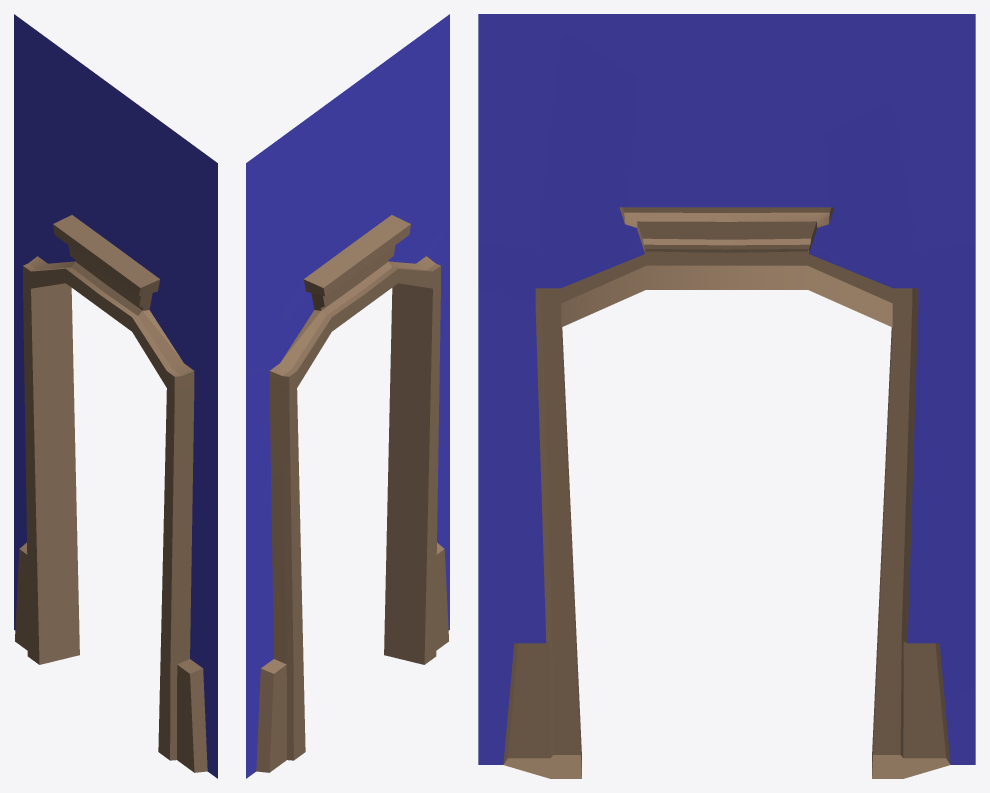
File: SM_SalleSilence_EncadrementPorte.fbx
3 views of the same model, side by side, from view 1: azimuth 30°, elevation 25°; view 2: azimuth 150°, elevation 25°; view 3: azimuth 270°, elevation 25° (orthographic). The views are drawn at different scales.
Parts seen in each view (by area): view 1: SM_SalleSilence_EncadrementPorte; view 2: SM_SalleSilence_EncadrementPorte; view 3: SM_SalleSilence_EncadrementPorte.
Boxes of the visible parts, x1=… form: SM_SalleSilence_EncadrementPorte: x1=14, y1=14, x2=217, y2=778; SM_SalleSilence_EncadrementPorte: x1=246, y1=14, x2=449, y2=778; SM_SalleSilence_EncadrementPorte: x1=478, y1=14, x2=975, y2=778.
Bounding box in the file's own units: 72.81 × 1000 × 600.
